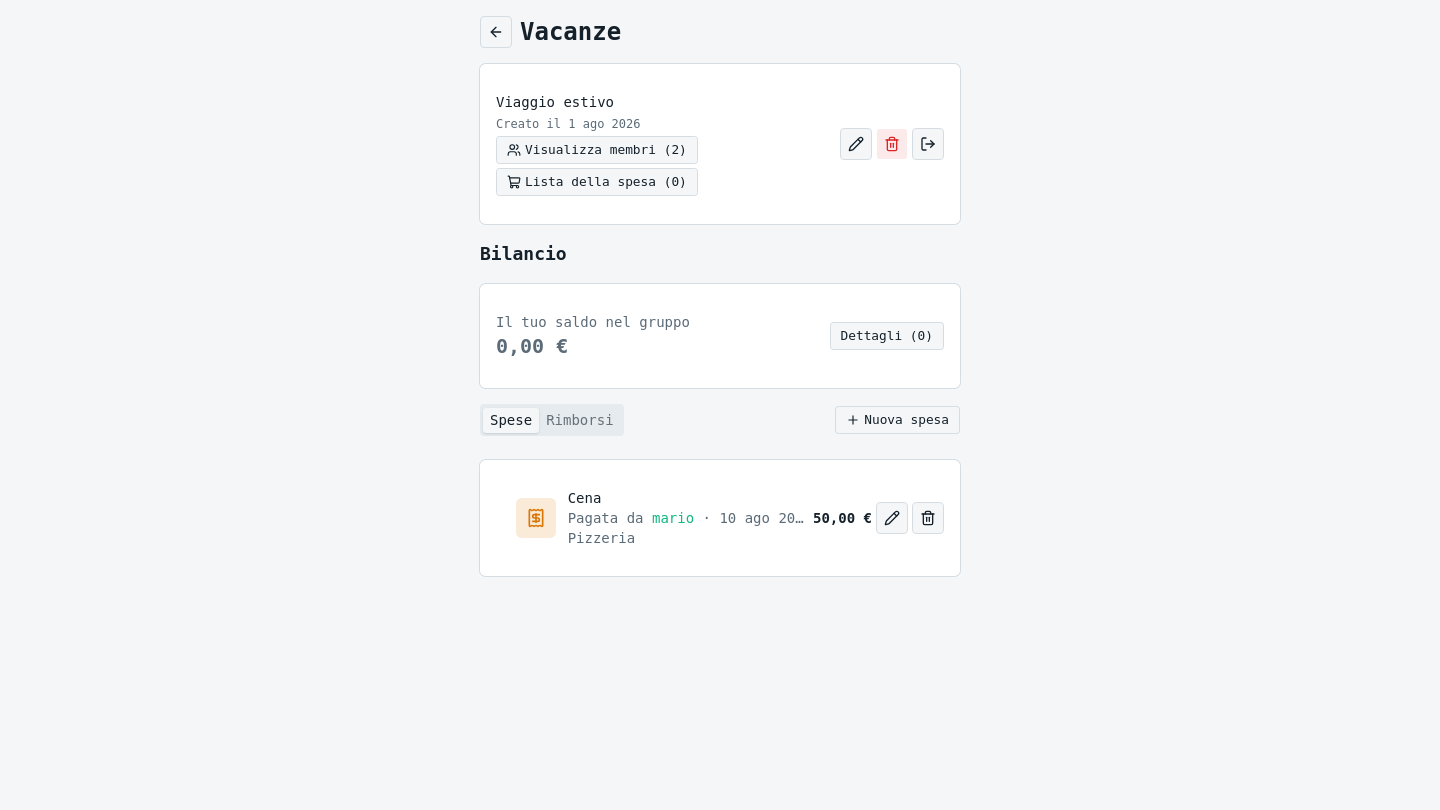
Test: GroupDetailPage › blocca la modifica se la somma delle quote non pareggia l’importo
Step 1. Click the button named "Modifica Cena" → (892, 518), box [876,502,908,534]
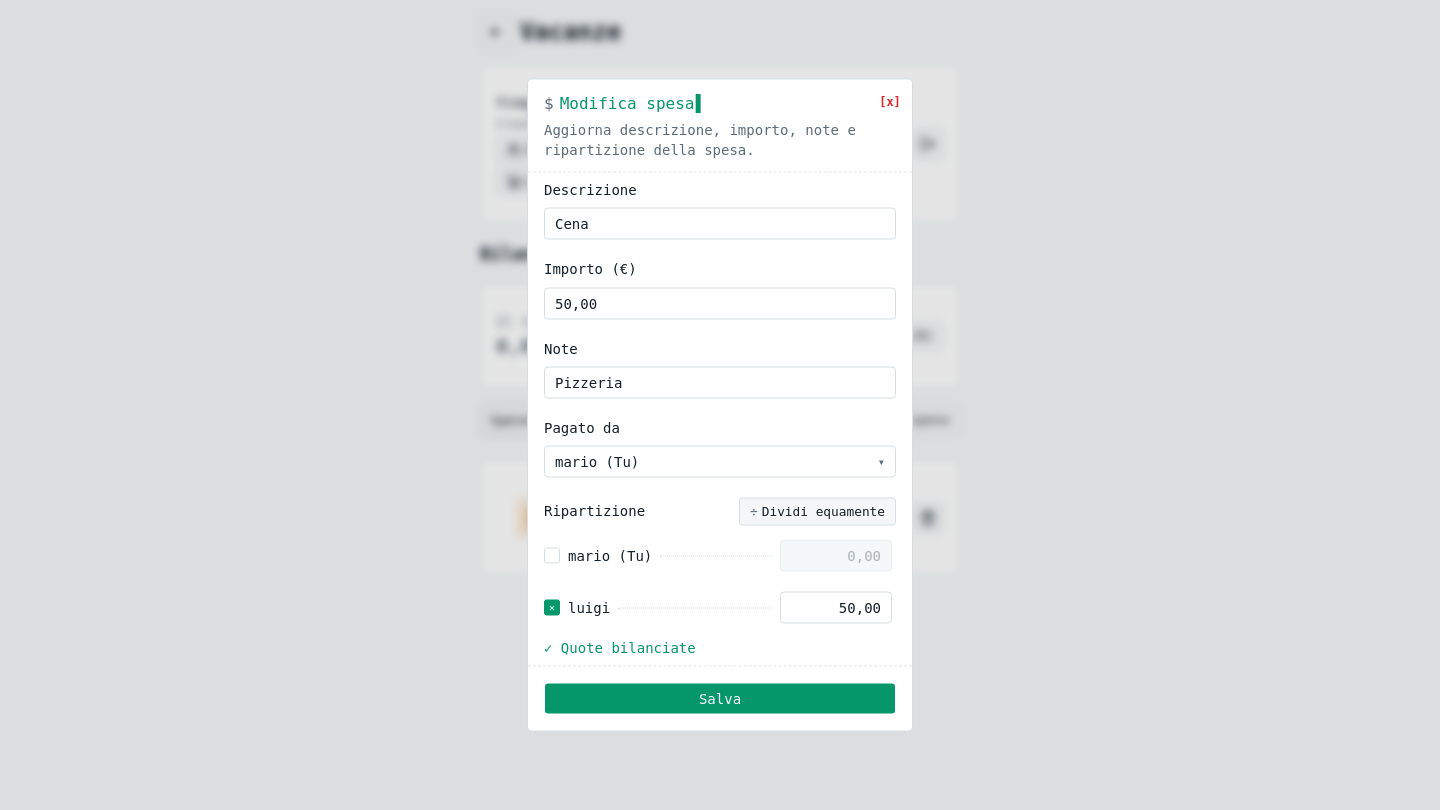
Step 2. Replace the text in the field named "Quota luigi" with "40" → (836, 608), box [780,592,892,624]
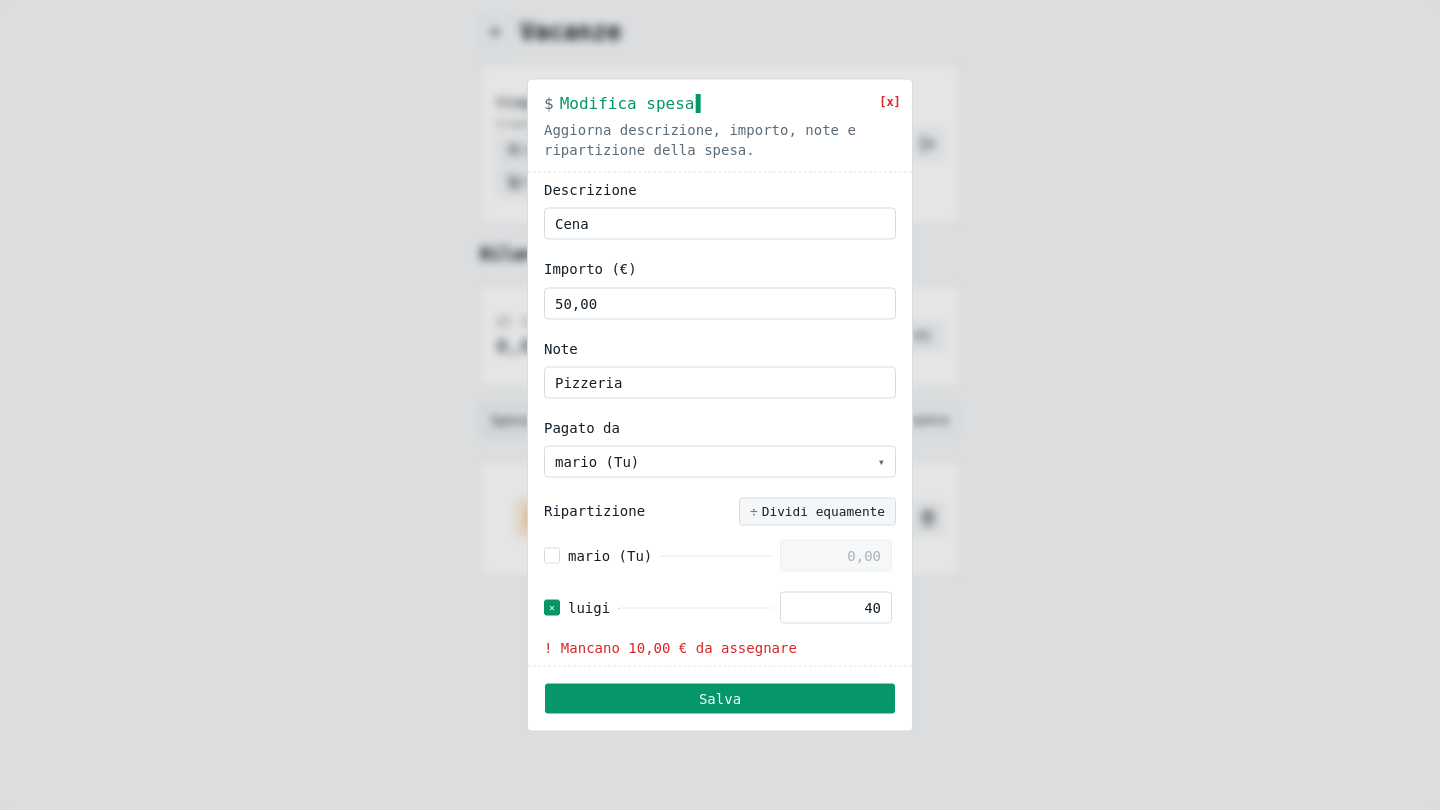
Step 3. Submit the form, box [544,180,896,658]
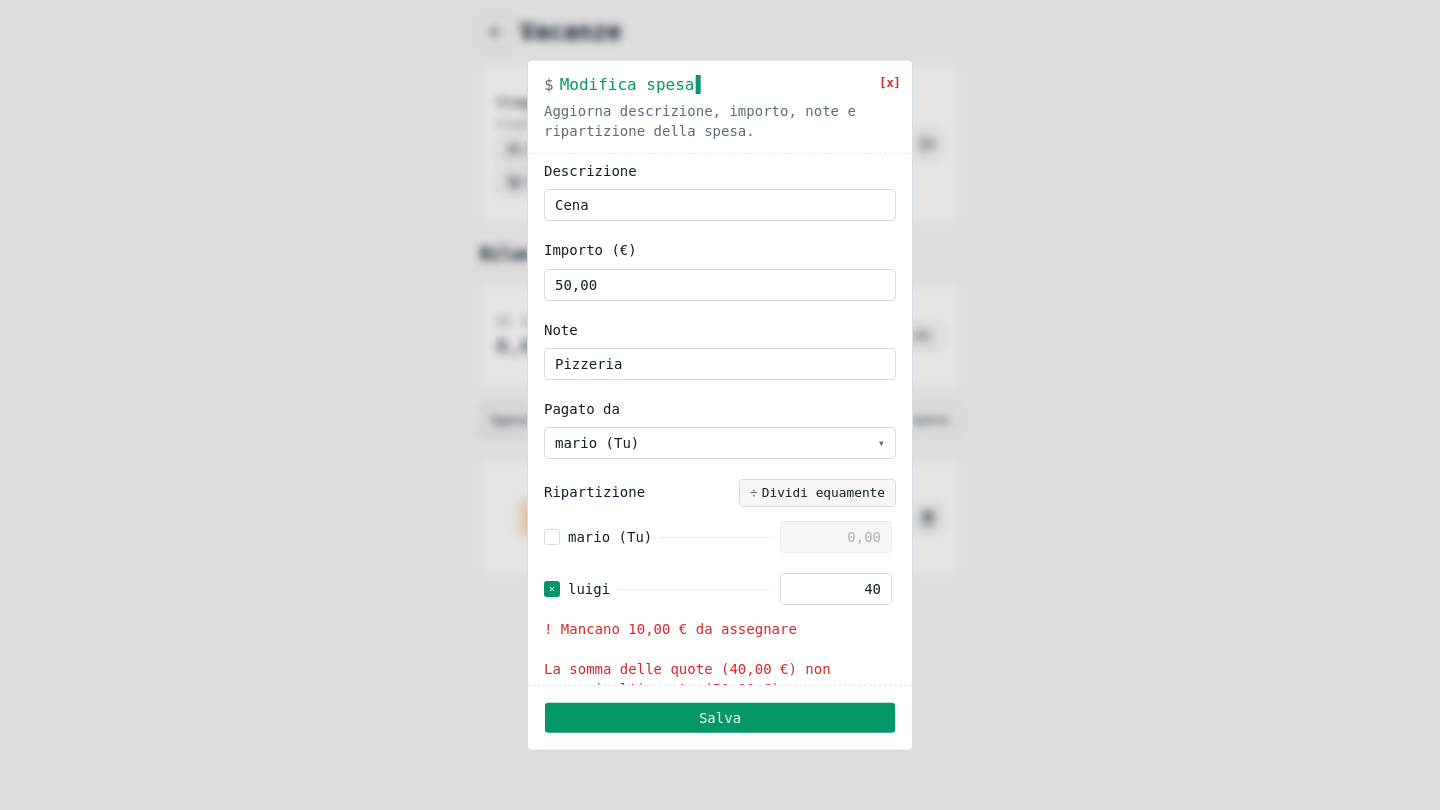
Expected: the text "La somma delle quote (40,00 €) non pareggia l'importo (50,00 €)" is shown, [544,661,831,684]
